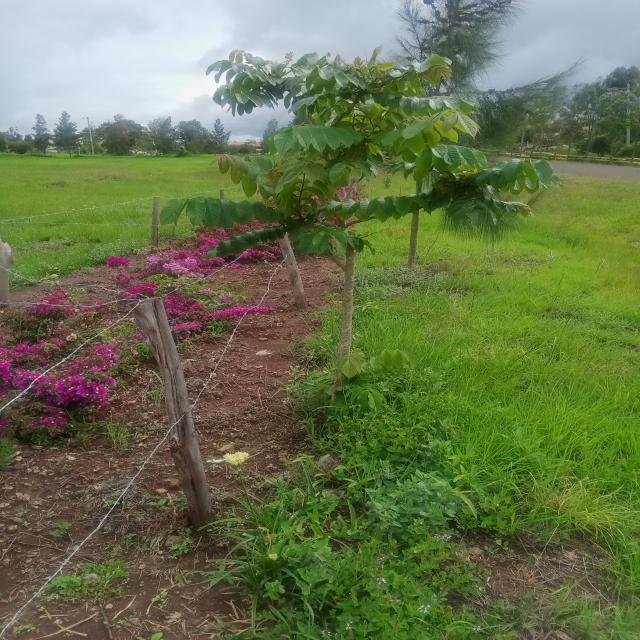Polyscias Kikuyensis: (164, 41, 563, 387)
